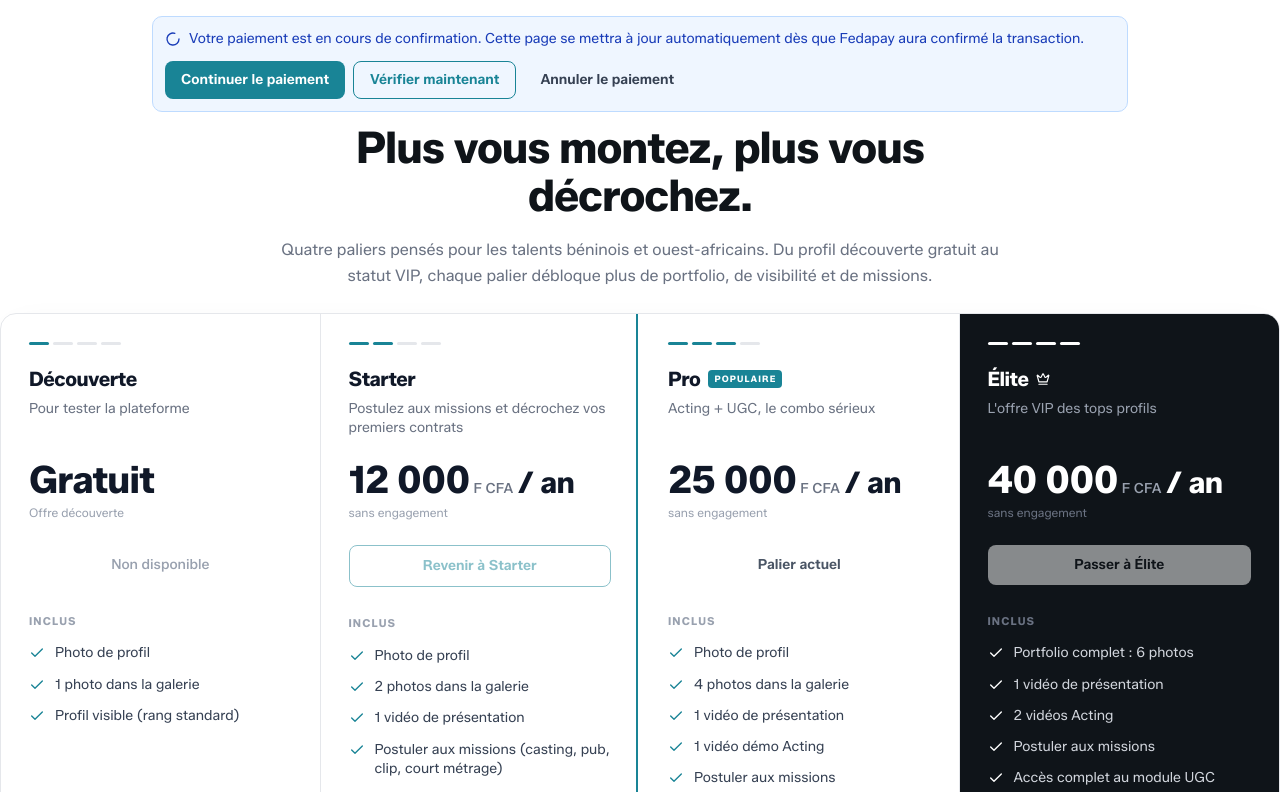
Cancel-pending action (FP-2.15.1) › T2 — clicking "Annuler le paiement" opens the ConfirmModal
Click the button with test id "pricing-banner-cancel" at {"x": 607, "y": 80}, box [524,61,690,99]
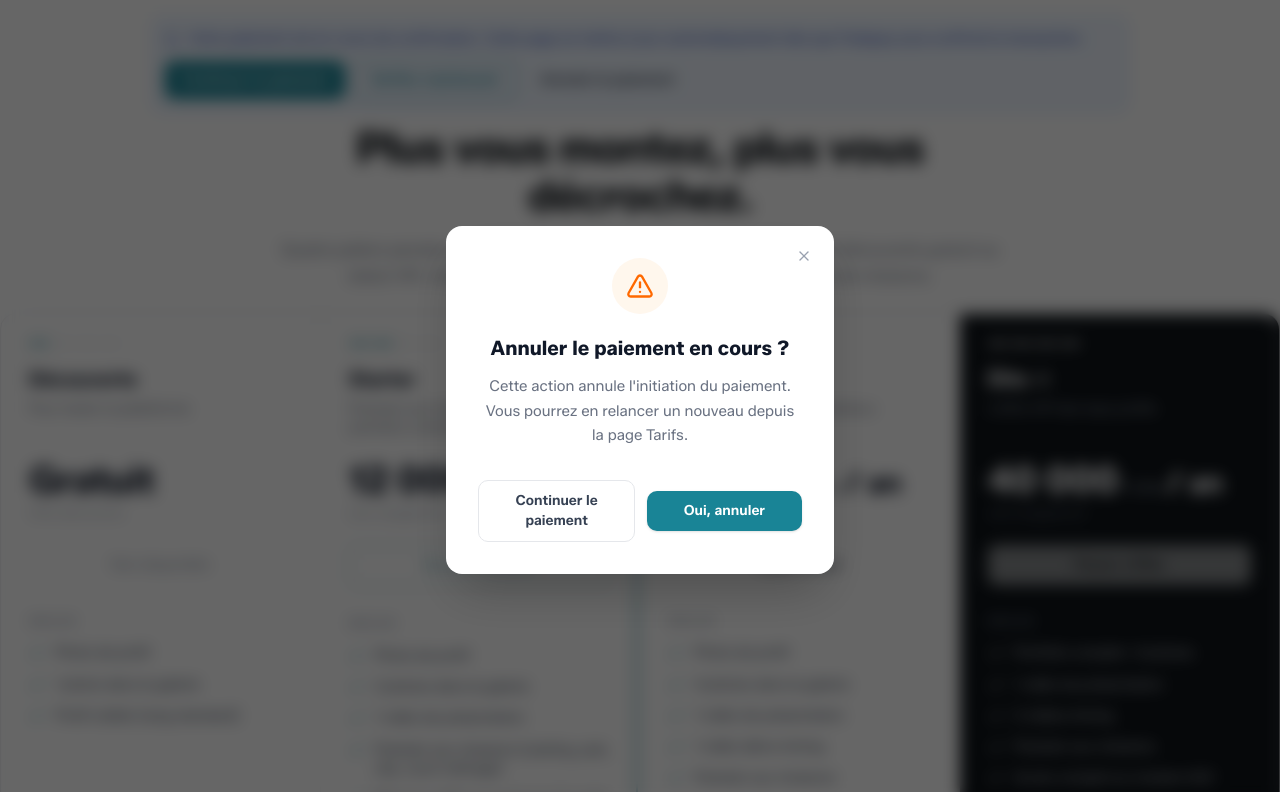
Expected: the heading "Annuler le paiement en cours ?" is shown, [491,334,789,362]
